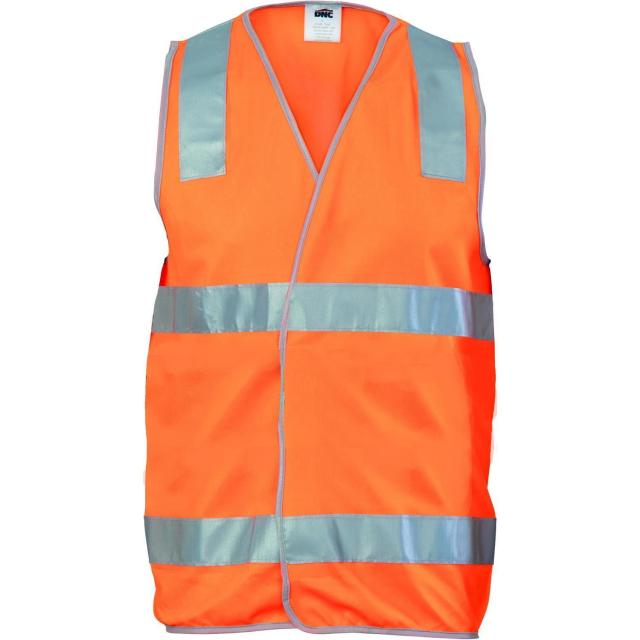Vest: (140, 4, 497, 638)
